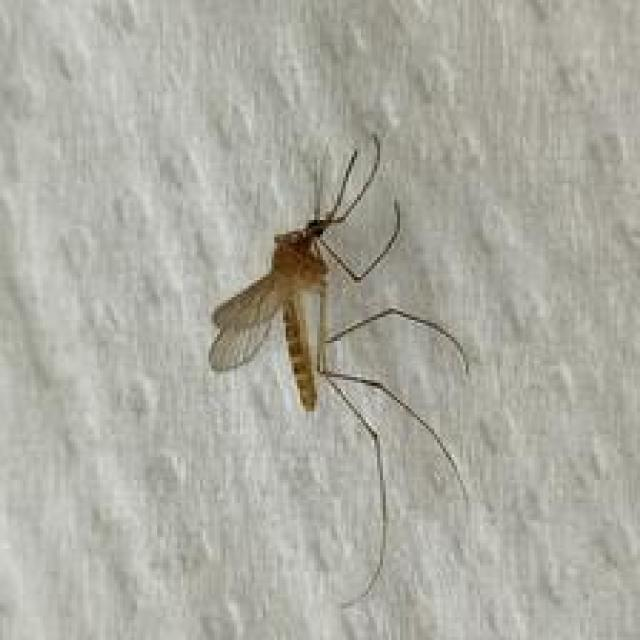Culex: (206, 132, 471, 608)
